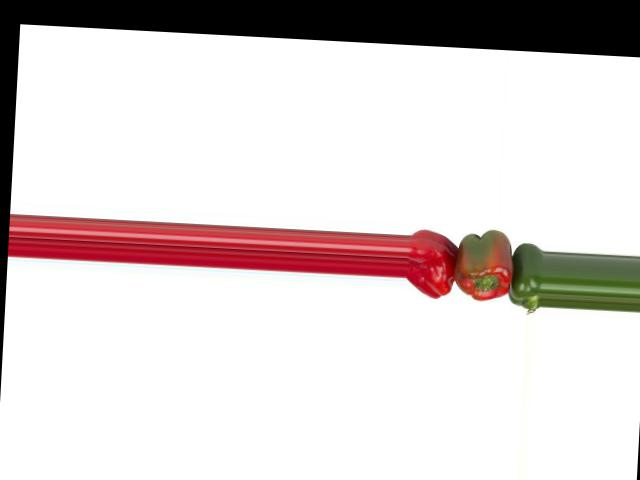bell_pepper: (405, 225, 460, 305)
